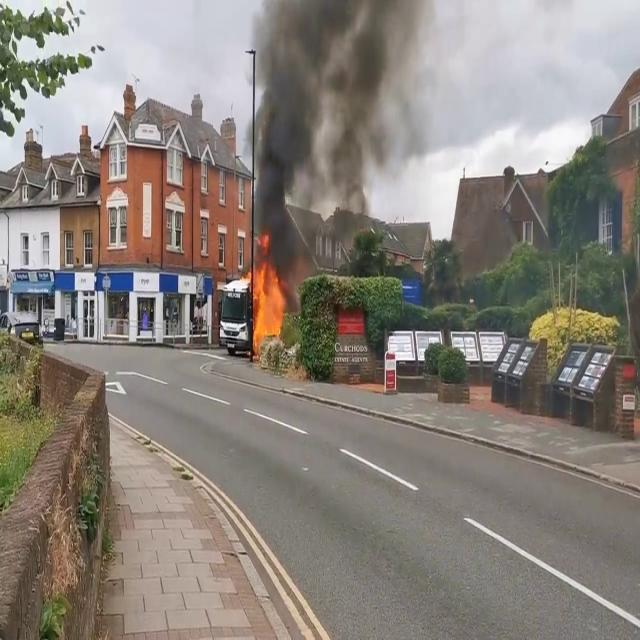Fire: (249, 252, 288, 352)
Smoke: (248, 0, 420, 260)
